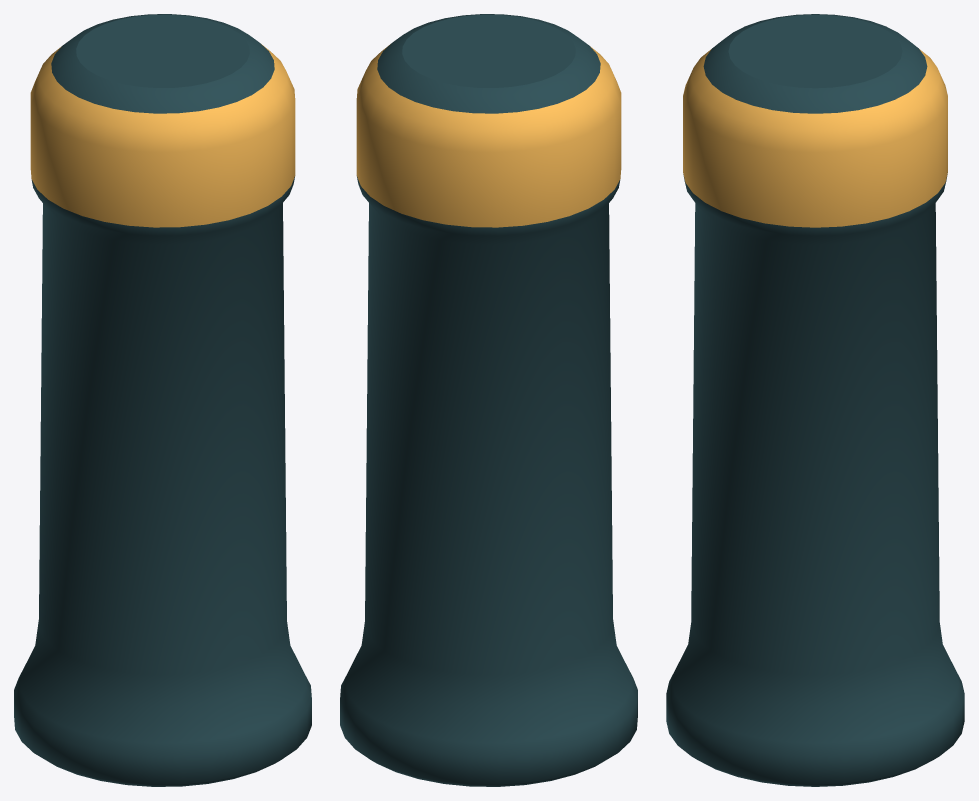
Rendered from city_barriers_01.glb.
The picture shows the model from 3 angles, left to right: view 1: azimuth 30°, elevation 25°; view 2: azimuth 150°, elevation 25°; view 3: azimuth 270°, elevation 25°; orthographic projection.
Visible parts, largest first — view 1: CityBarriers01_Mesh; view 2: CityBarriers01_Mesh; view 3: CityBarriers01_Mesh.
Boxes of the visible parts, x1,y1,x2,y2 form: CityBarriers01_Mesh: (14, 14, 311, 786); CityBarriers01_Mesh: (340, 14, 637, 786); CityBarriers01_Mesh: (666, 14, 964, 786).
Size of the model in its own units: 0.36 by 0.9 by 0.36.
